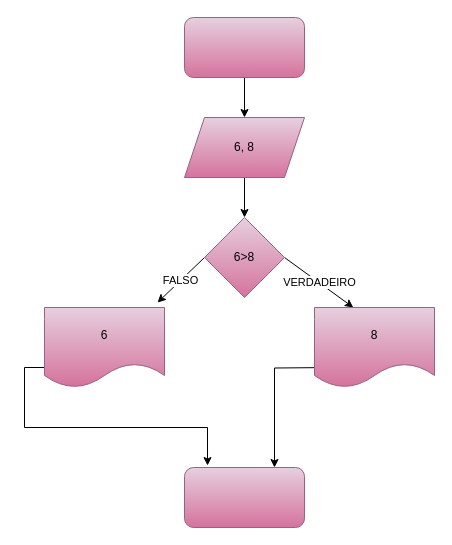
The diagram is 452 pixels wide and 545 high, and some of its shapes have lost their labels. Each missing label, with the centre of its shape:
FIM: the point at 244,497
INICIO: the point at 244,47
